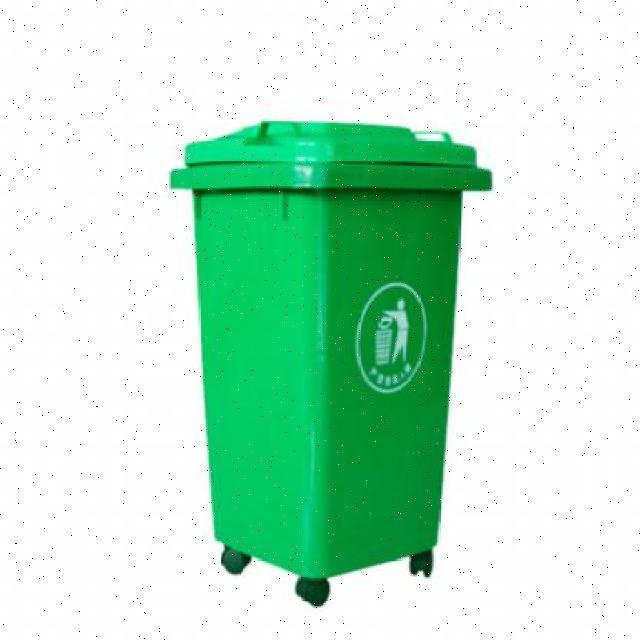garbage container: (149, 100, 508, 634)
